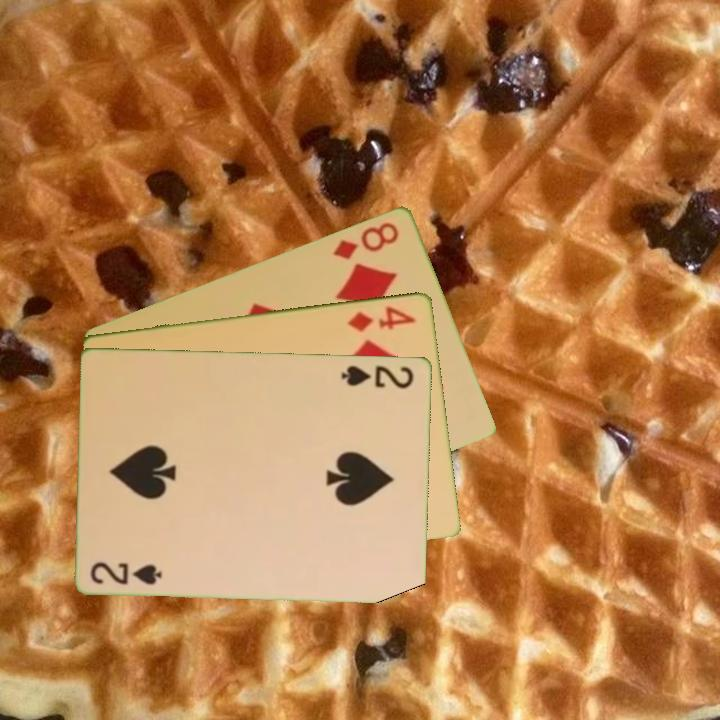2s: (338, 361, 417, 391), (88, 558, 166, 587)
4d: (344, 302, 419, 334)
8d: (329, 218, 402, 262)
